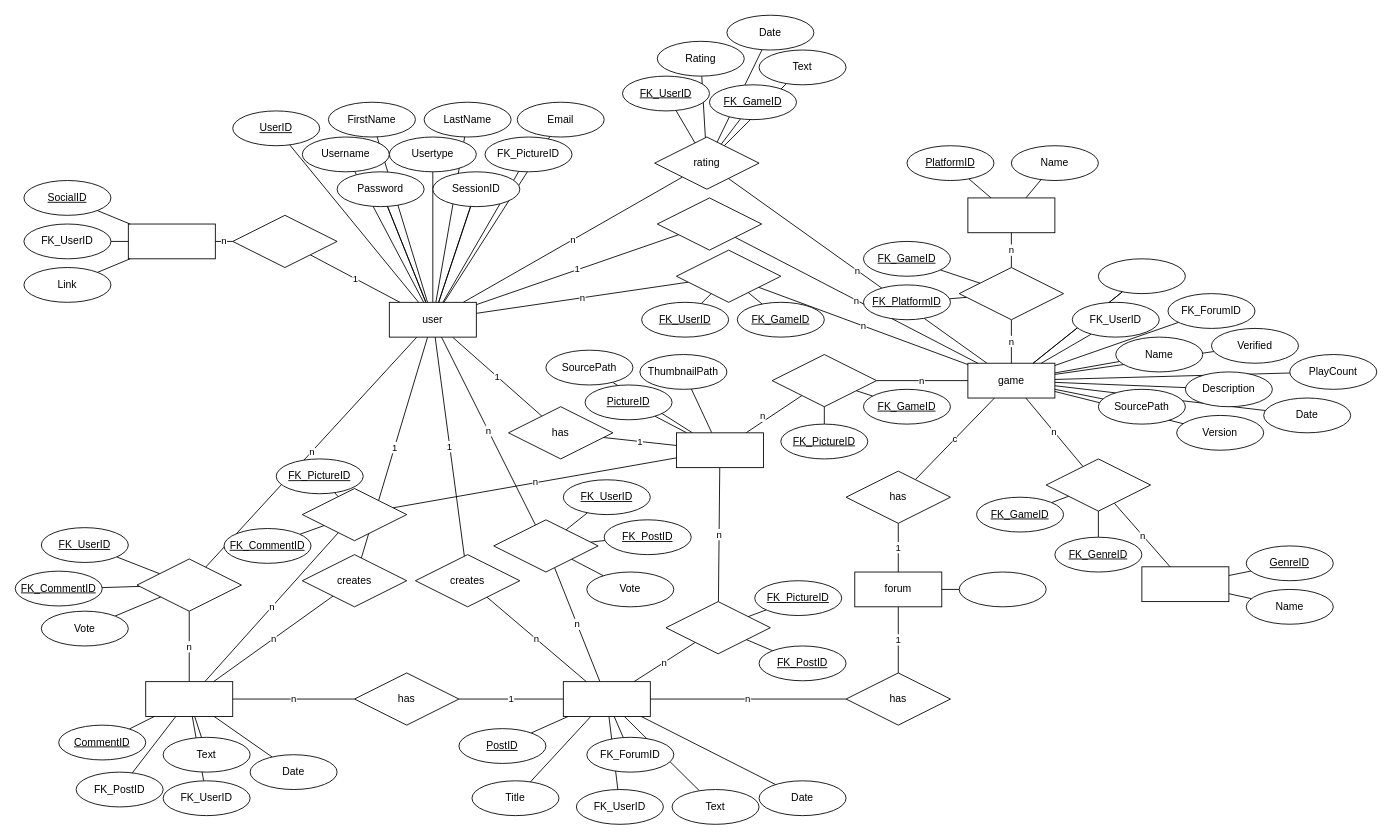
Image size: 1392x840. Some labels were removed from this diagram. The shapes that lost their labels are listed below. From the top down, each one's centre as x and y in pixels, then its label:
At point 709,223: "uploads".
At point 1011,215: "platform".
At point 171,241: "social".
At point 284,241: "links".
At point 728,275: "favorite".
At point 1011,293: "game_platform".
At point 1141,276: "GameID".
At point 824,380: "picture_game".
At point 719,450: "picture".
At point 1098,484: "game_genre".
At point 354,514: "picture_comment".
At point 545,545: "vote_post".
At point 188,584: "vote_comment".
At point 1002,589: "ForumID".
At point 1185,584: "genre".
At point 717,627: "picture_post".
At point 189,698: "comment".
At point 606,698: "post".
